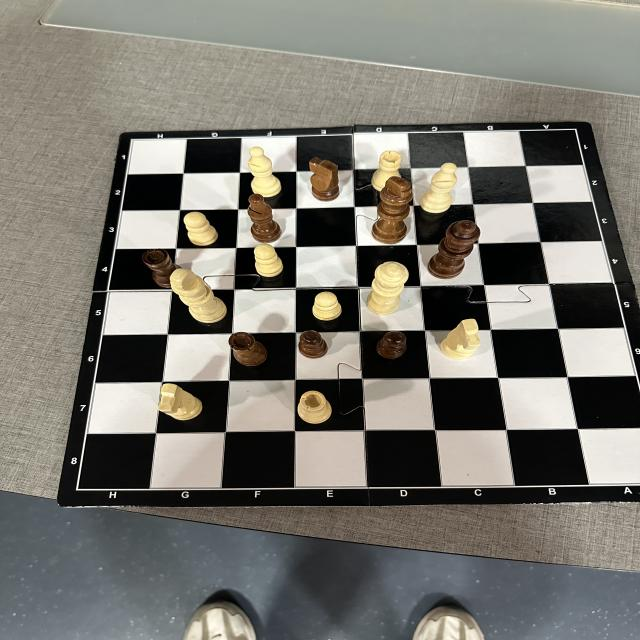Black-Bishop: (248, 193, 281, 243)
Black-King: (371, 176, 412, 243)
Black-Knight: (310, 157, 340, 202)
Black-Pawn: (377, 329, 408, 360), (298, 330, 329, 358)
Black-Queen: (427, 220, 481, 279)
Black-Rook: (228, 330, 268, 366), (144, 250, 182, 287)
White-Bishop: (422, 162, 457, 214), (248, 146, 282, 197)
White-King: (168, 269, 228, 322)
White-Knight: (158, 384, 204, 420), (441, 318, 481, 359)
White-Pawn: (184, 211, 219, 246), (253, 244, 284, 278), (312, 291, 342, 320)
White-Queen: (367, 262, 409, 314)
White-Rook: (297, 390, 332, 424), (374, 150, 399, 192)
